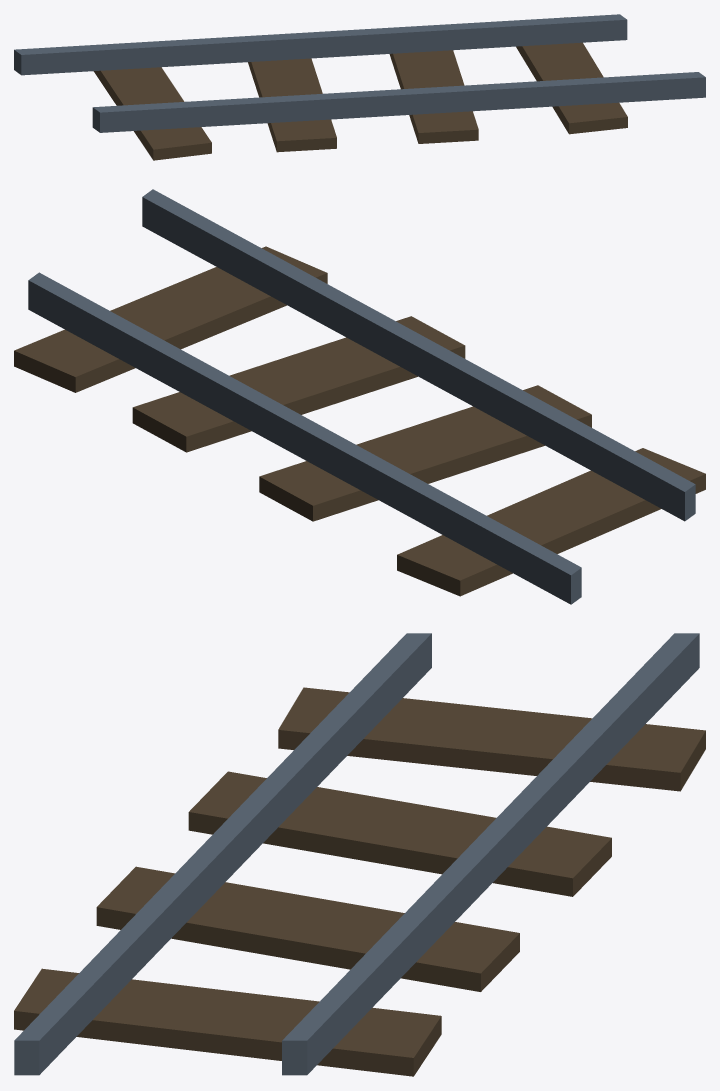
The model's file is Rail-C03.fbx.
The picture shows the model from 3 angles, top to bottom: view 1: azimuth 30°, elevation 25°; view 2: azimuth 150°, elevation 25°; view 3: azimuth 270°, elevation 25°; orthographic projection. The views are drawn at different scales.
Parts seen in each view (by area): view 1: Rail-C03; view 2: Rail-C03; view 3: Rail-C03.
Part boxes in pixels (bbox=[...]): Rail-C03: bbox=[14, 14, 705, 160]; Rail-C03: bbox=[14, 189, 705, 604]; Rail-C03: bbox=[14, 633, 705, 1076].
Size of the model in its own units: 457 by 28.05 by 328.
